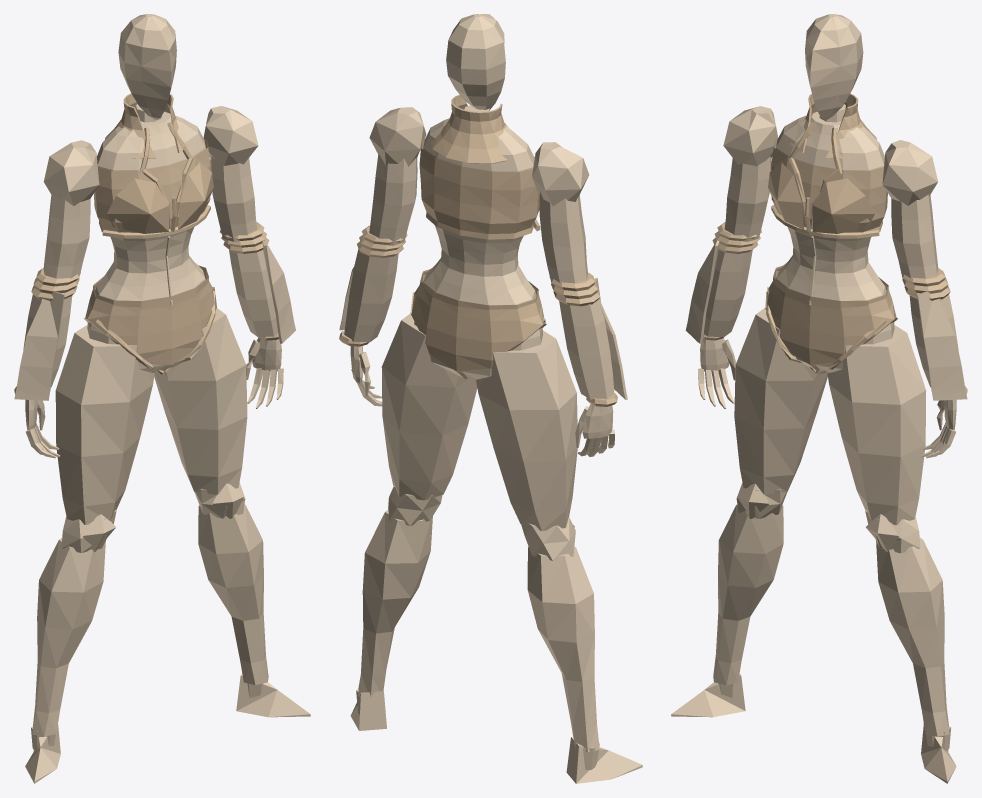
The model's file is paper-woman-2.glb.
3 renders of one model, left to right at view 1: azimuth 30°, elevation 25°; view 2: azimuth 150°, elevation 25°; view 3: azimuth 330°, elevation 25°, orthographic. The views are drawn at different scales.
Parts seen in each view (by area): view 1: leg_upper_l, leg_upper_r, torso, leg_lower_l, leg_lower_r, briefs, head, bracer_flap_l, arm_upper_l, sports_top, arm_upper_r, bracer_r (+18 smaller); view 2: leg_upper_l, leg_upper_r, torso, leg_lower_l, sports_top, leg_lower_r, briefs, head, bracer_l, bracer_r, arm_upper_l, collar (+12 smaller); view 3: leg_upper_r, leg_upper_l, torso, leg_lower_r, leg_lower_l, briefs, head, bracer_flap_r, arm_upper_r, sports_top, arm_upper_l, bracer_l (+18 smaller).
Part boxes in pixels (bbox=[...]): leg_upper_l: bbox=[55, 325, 154, 524]; leg_upper_r: bbox=[154, 308, 247, 494]; torso: bbox=[87, 111, 205, 372]; leg_lower_l: bbox=[32, 537, 105, 736]; leg_lower_r: bbox=[198, 504, 268, 685]; briefs: bbox=[84, 268, 216, 371]; head: bbox=[118, 14, 176, 119]; bracer_flap_l: bbox=[14, 291, 64, 400]; arm_upper_l: bbox=[43, 195, 90, 283]; sports_top: bbox=[94, 138, 210, 232]; arm_upper_r: bbox=[210, 156, 257, 241]; bracer_r: bbox=[229, 250, 277, 336]; leg_upper_l: bbox=[476, 330, 577, 530]; leg_upper_r: bbox=[381, 313, 477, 500]; torso: bbox=[414, 118, 542, 379]; leg_lower_l: bbox=[527, 546, 599, 751]; sports_top: bbox=[419, 139, 539, 239]; leg_lower_r: bbox=[358, 510, 432, 696]; briefs: bbox=[410, 271, 546, 378]; head: bbox=[446, 14, 505, 109]; bracer_l: bbox=[559, 299, 614, 399]; bracer_r: bbox=[344, 249, 398, 342]; arm_upper_l: bbox=[539, 191, 587, 285]; collar: bbox=[431, 94, 507, 163]; leg_upper_r: bbox=[827, 325, 926, 525]; leg_upper_l: bbox=[734, 308, 827, 494]; torso: bbox=[776, 111, 894, 372]; leg_lower_r: bbox=[876, 537, 949, 736]; leg_lower_l: bbox=[713, 504, 783, 685]; briefs: bbox=[765, 268, 897, 371]; head: bbox=[805, 14, 863, 119]; bracer_flap_r: bbox=[917, 291, 967, 400]; arm_upper_r: bbox=[891, 194, 938, 280]; sports_top: bbox=[771, 138, 887, 232]; arm_upper_l: bbox=[724, 156, 771, 241]; bracer_l: bbox=[704, 249, 752, 336].
Size of the model in its own units: 0.7068 by 1.72 by 0.2148.
